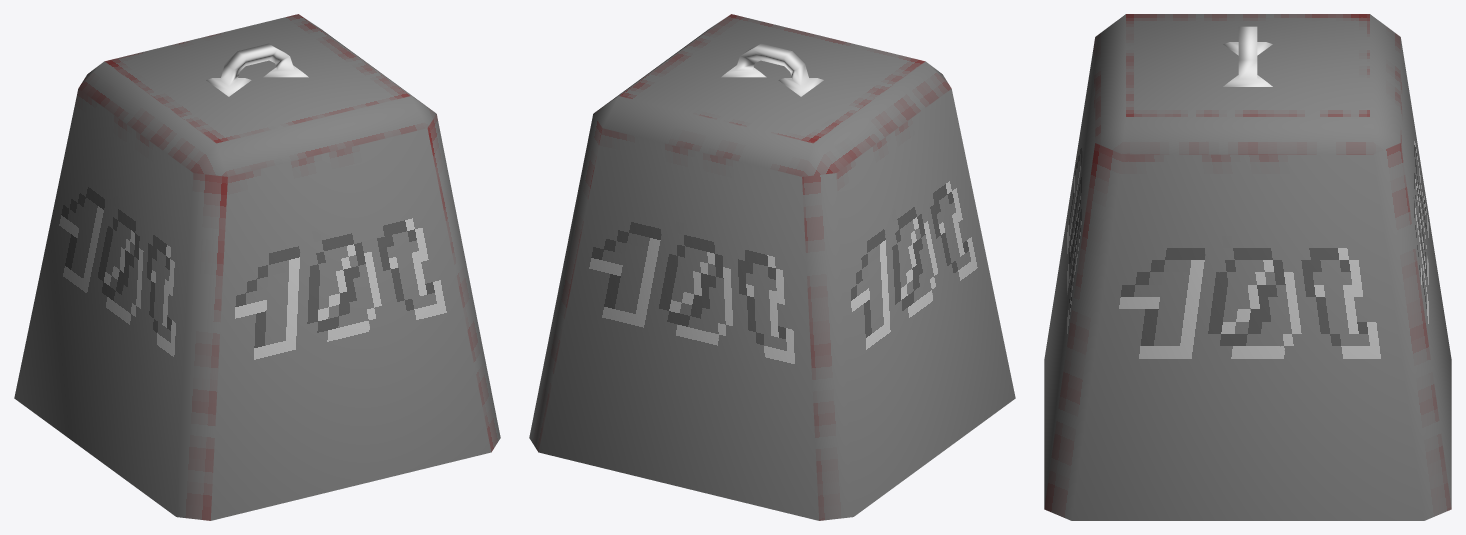
Rendered from tenton.fbx.
The picture shows the model from 3 angles, left to right: view 1: azimuth 30°, elevation 25°; view 2: azimuth 150°, elevation 25°; view 3: azimuth 270°, elevation 25°; orthographic projection. The views are drawn at different scales.
Parts seen in each view (by area): view 1: Box001, Cylinder001; view 2: Box001, Cylinder001; view 3: Box001, Cylinder001.
Boxes of the visible parts, <box> form: Box001: <box>14,14,500,520</box>; Cylinder001: <box>206,43,308,96</box>; Box001: <box>529,14,1015,520</box>; Cylinder001: <box>721,43,823,96</box>; Box001: <box>1044,14,1451,520</box>; Cylinder001: <box>1223,26,1272,86</box>.
Bounding box in the file's own units: 0.9 × 0.9748 × 0.9.
1 material, 1 textured.
